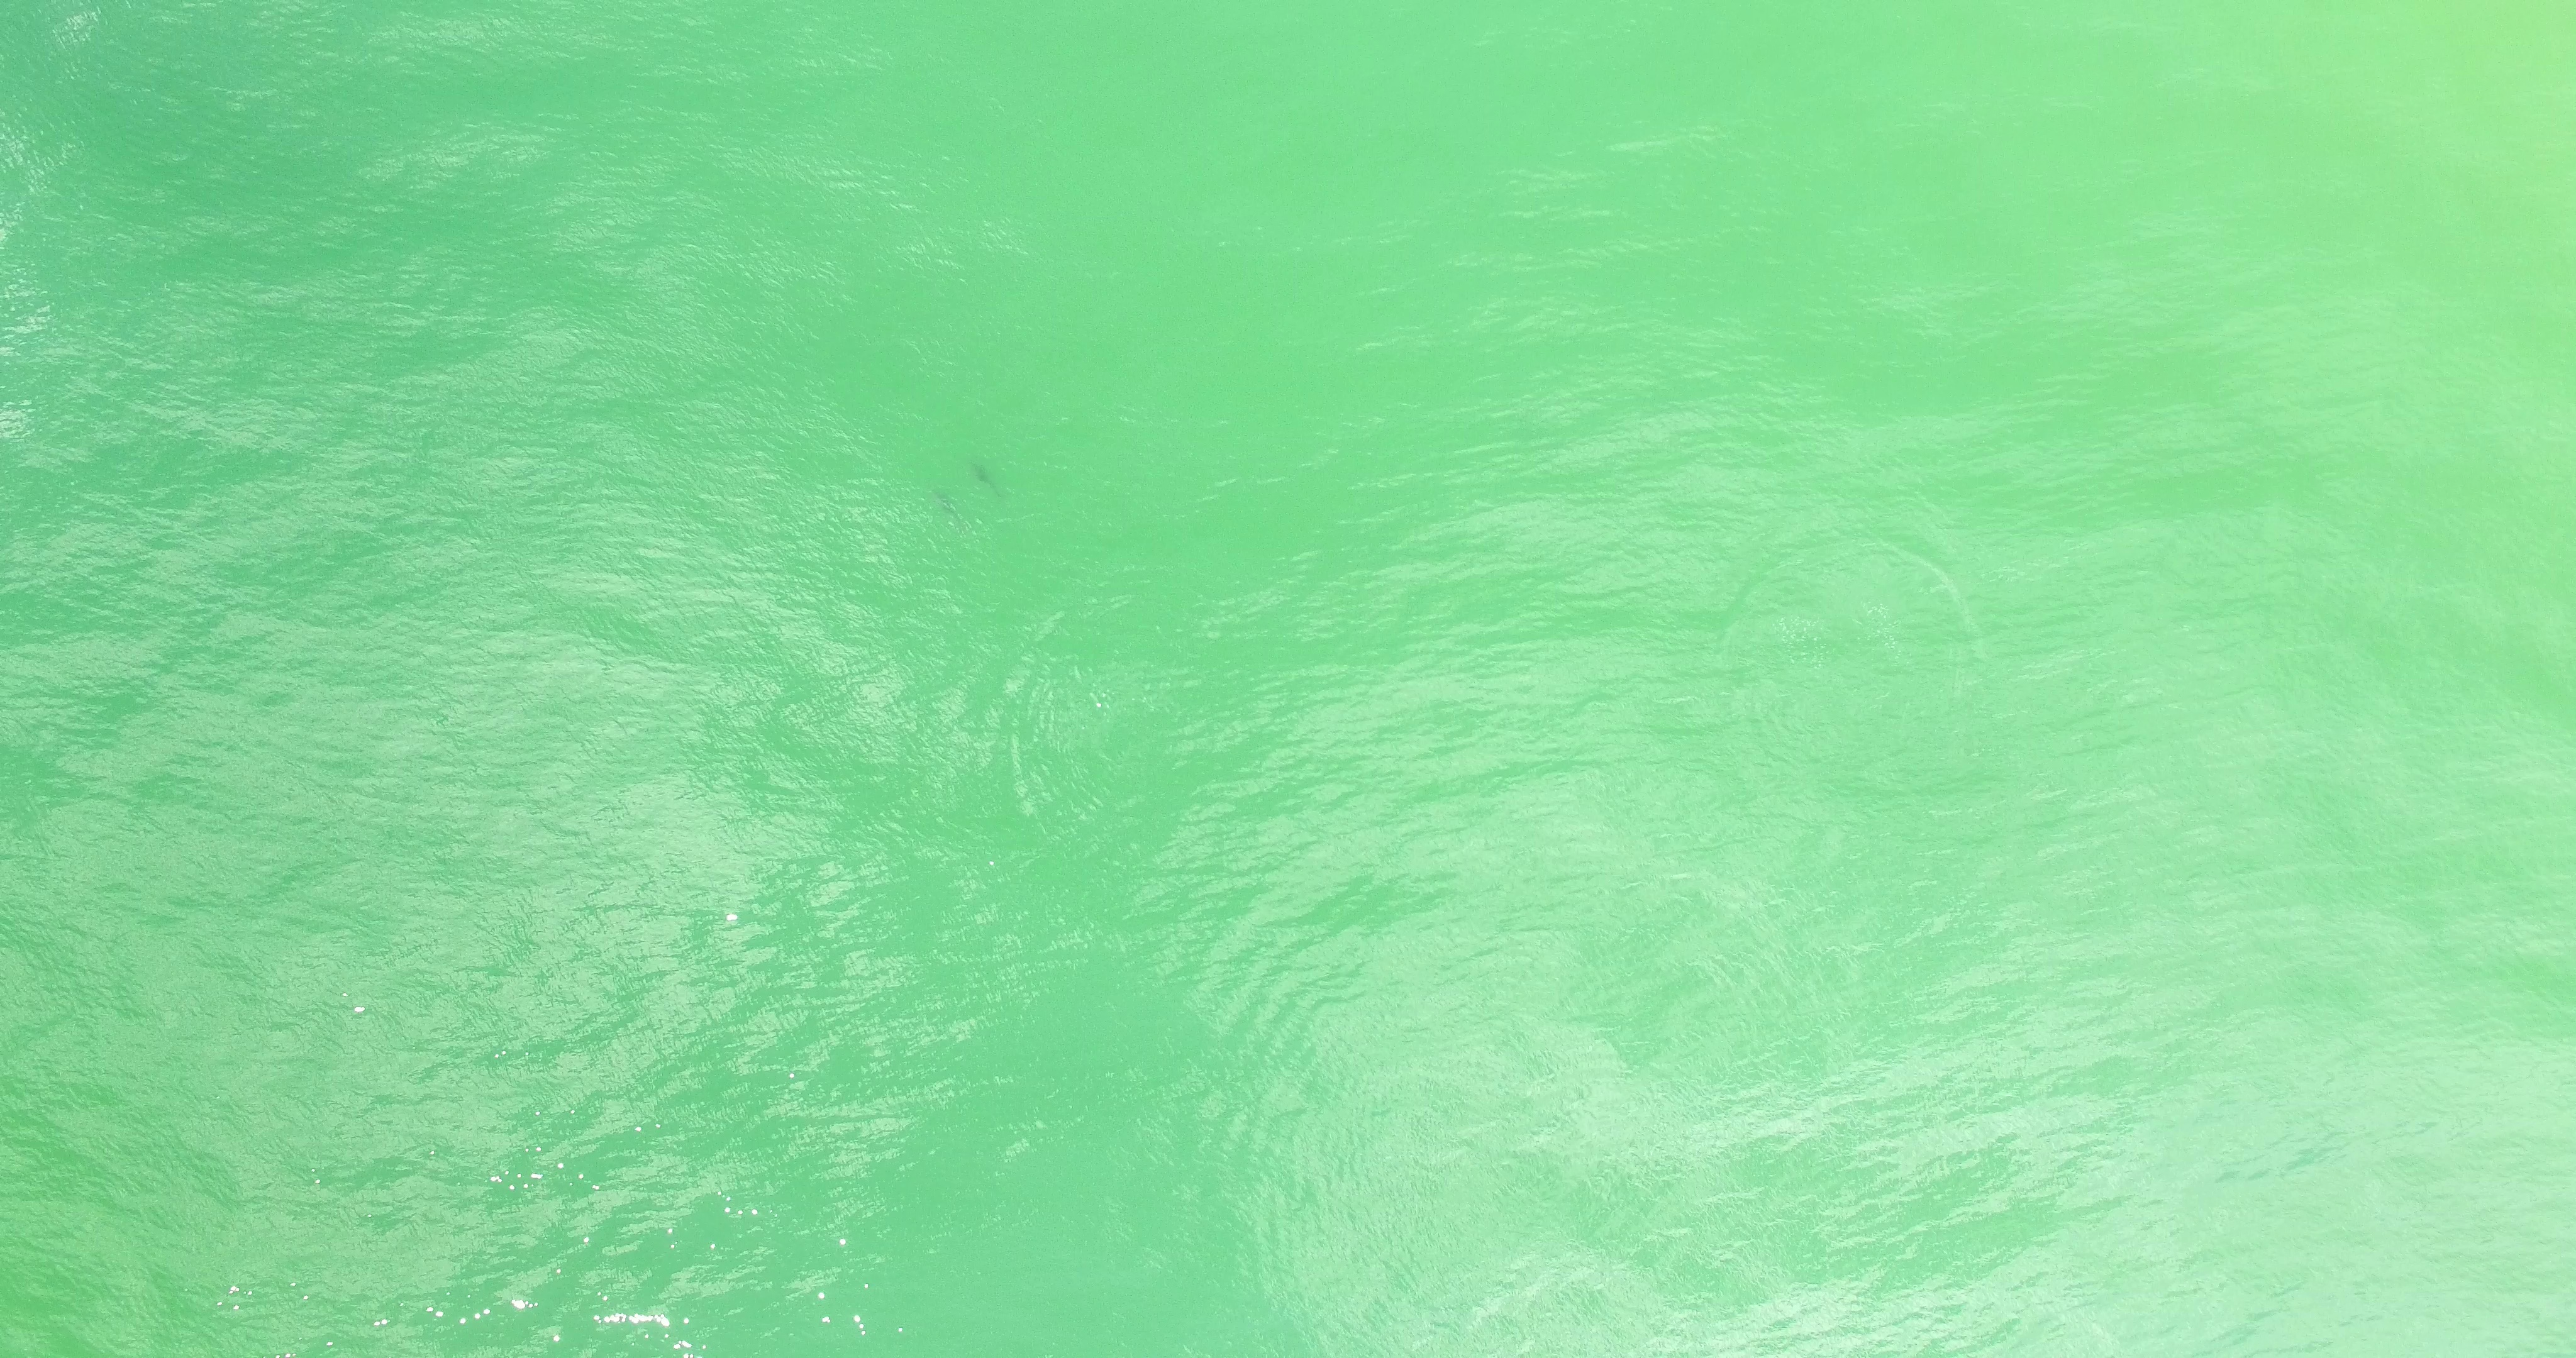dolphin: (927, 487, 973, 530), (968, 460, 1010, 504)
